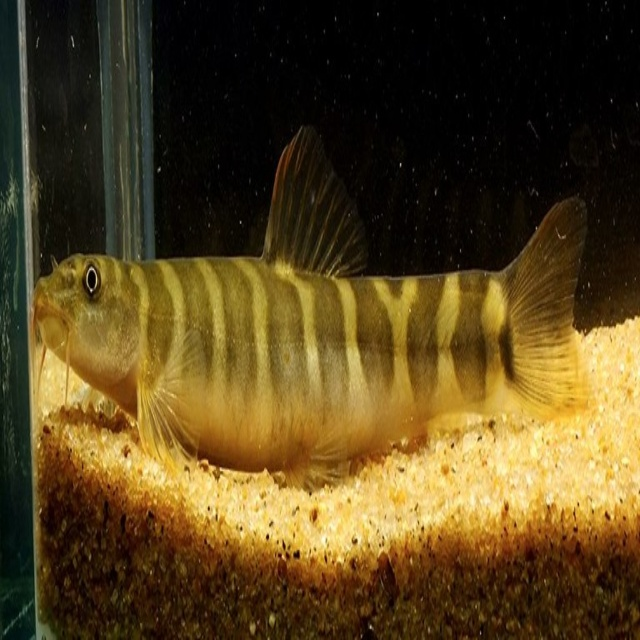Fish: (28, 109, 603, 475)
